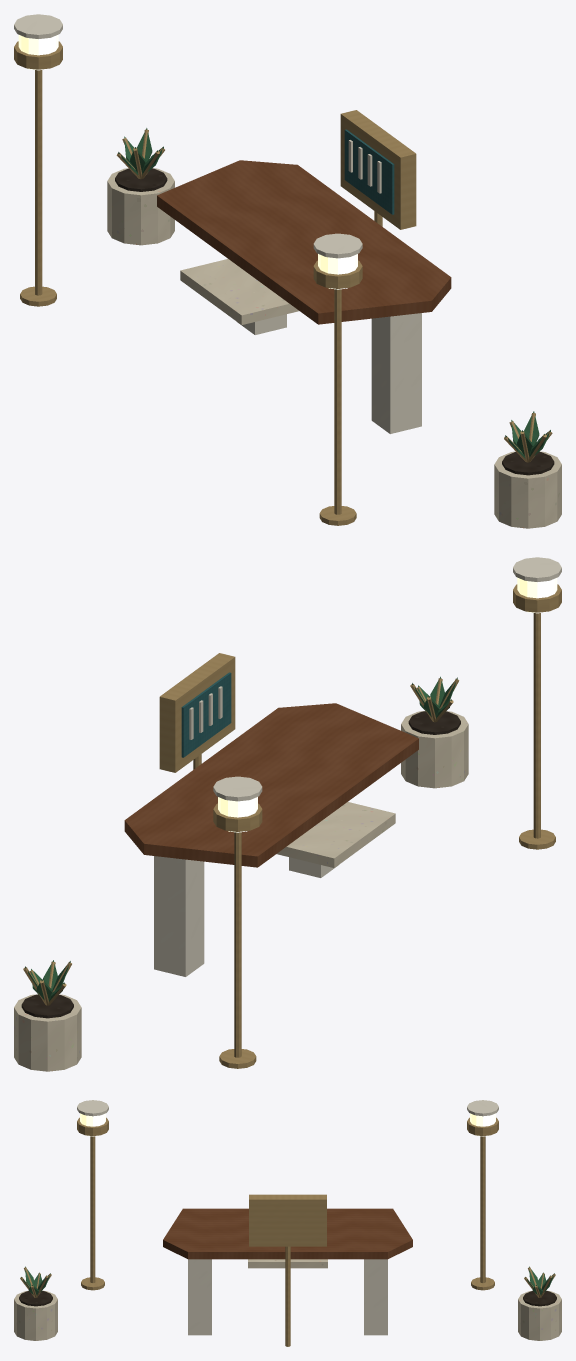
Rendered from G7_Gallery_D13_r001.glb.
3 views of the same model, one above another, from view 1: azimuth 30°, elevation 25°; view 2: azimuth 150°, elevation 25°; view 3: azimuth 270°, elevation 25° (orthographic). The views are drawn at different scales.
Visible parts, largest first — view 1: G7_D13_wood_solid, G7_D13_metal_solid, G7_D13_stone_solid, G7_D13_ivory_solid, G7_D13_teal_solid, G7_D13_soil_solid, G7_D13_leaf_visual_plant, G7_D13_lens_visual_lens, G7_D13_ivory_visual_mark; view 2: G7_D13_wood_solid, G7_D13_metal_solid, G7_D13_stone_solid, G7_D13_ivory_solid, G7_D13_teal_solid, G7_D13_soil_solid, G7_D13_lens_visual_lens, G7_D13_leaf_visual_plant, G7_D13_ivory_visual_mark; view 3: G7_D13_wood_solid, G7_D13_metal_solid, G7_D13_ivory_solid, G7_D13_stone_solid, G7_D13_soil_solid, G7_D13_leaf_visual_plant, G7_D13_lens_visual_lens.
Boxes of the visible parts, x1,y1,x2,y2 form: G7_D13_wood_solid: (157,160,451,324); G7_D13_metal_solid: (14,41,552,525); G7_D13_stone_solid: (107,168,561,528); G7_D13_ivory_solid: (14,14,421,433); G7_D13_teal_solid: (344,129,394,214); G7_D13_soil_solid: (115,168,554,475); G7_D13_leaf_visual_plant: (118,128,550,458); G7_D13_lens_visual_lens: (18,34,357,289); G7_D13_ivory_visual_mark: (348,140,381,193); G7_D13_wood_solid: (124,703,418,867); G7_D13_metal_solid: (23,584,561,1068); G7_D13_stone_solid: (14,711,468,1071); G7_D13_ivory_solid: (154,557,561,976); G7_D13_teal_solid: (181,672,231,757); G7_D13_soil_solid: (21,711,460,1018); G7_D13_lens_visual_lens: (218,577,557,832); G7_D13_leaf_visual_plant: (25,676,457,1001); G7_D13_ivory_visual_mark: (189,686,222,739); G7_D13_wood_solid: (163,1208,412,1259); G7_D13_metal_solid: (20,1117,555,1346); G7_D13_ivory_solid: (77,1100,498,1335); G7_D13_stone_solid: (14,1259,561,1340); G7_D13_soil_solid: (19,1291,556,1306); G7_D13_leaf_visual_plant: (21,1266,554,1295); G7_D13_lens_visual_lens: (80,1113,495,1136).
Size of the model in its own units: 1.65 by 1.97 by 5.48.
Materials: 8 (8 with a texture image).
